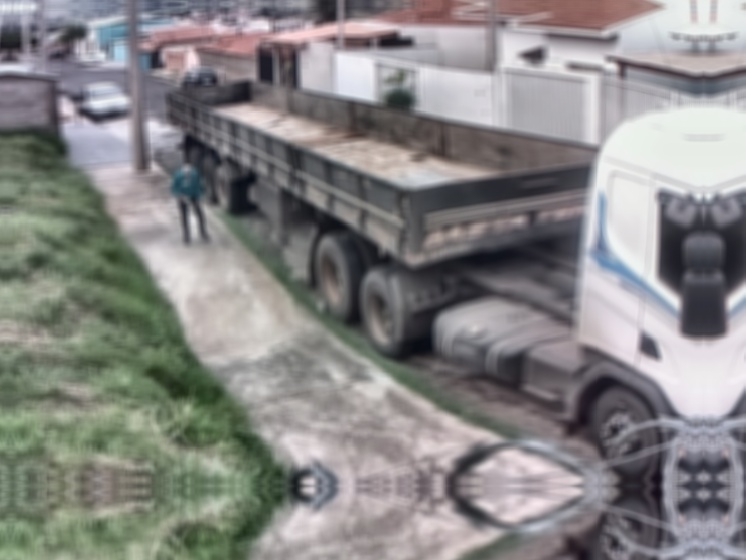person: (169, 164, 217, 245)
